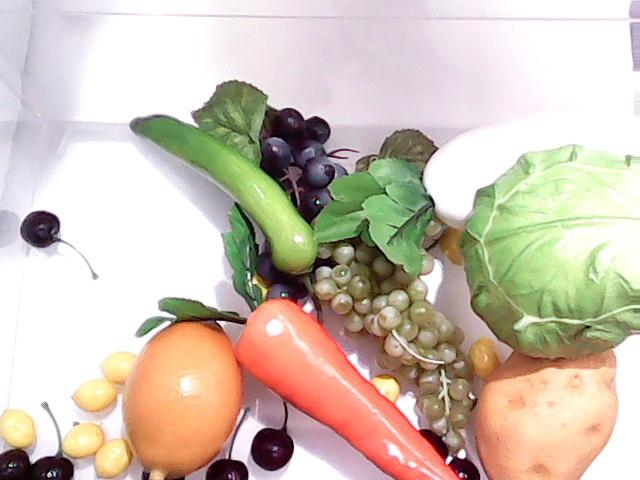cabbage: (455, 138, 640, 373)
carrot: (137, 200, 460, 480)
grape: (316, 240, 480, 460), (245, 98, 343, 310)
lemon: (119, 308, 249, 480)
pepper: (127, 114, 315, 274)
potato: (472, 340, 620, 480)
radish: (314, 108, 640, 276)
